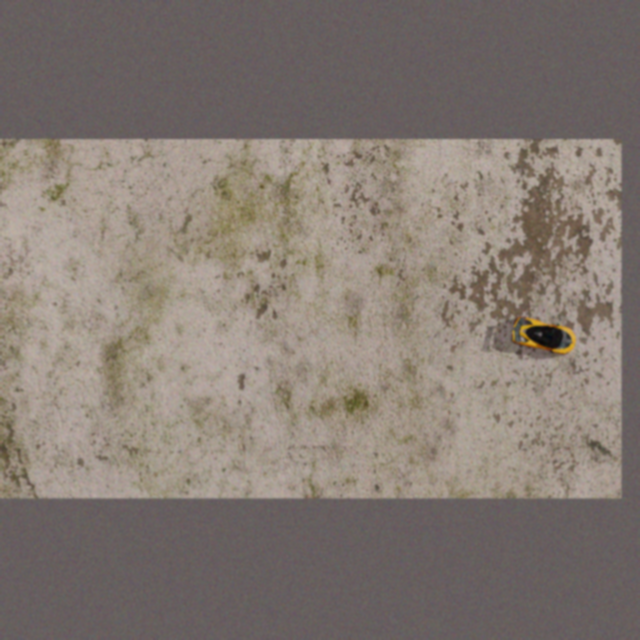car: (506, 314, 584, 359)
